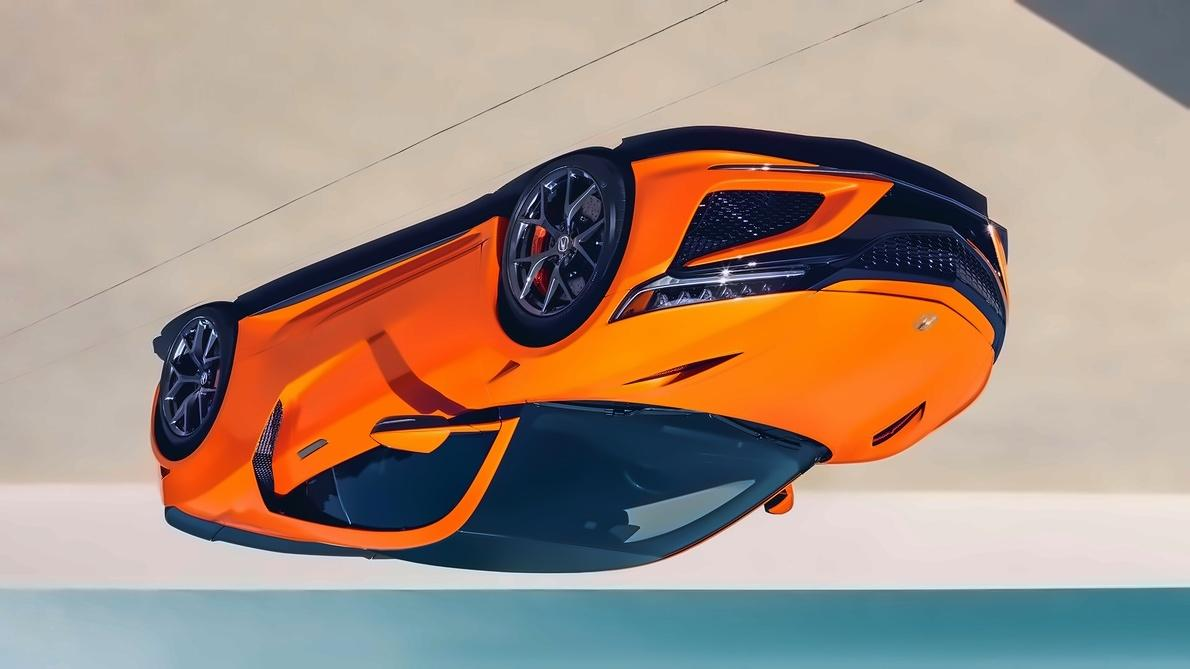Car hood: (549, 286, 1000, 469)
Fender - -F-L-: (479, 210, 630, 425)
Fender - -R-L-: (177, 304, 251, 533)
Front bumper: (619, 148, 1026, 308)
Headlight - -L-: (599, 255, 826, 327)
Passenger-s door - -F-L-: (270, 236, 479, 553)
Rear bumper: (135, 366, 179, 455)
Rear light - -L-: (140, 454, 186, 483)
Side bumper - -L-: (228, 208, 515, 363)
Side mirror - -L-: (365, 401, 456, 461)
